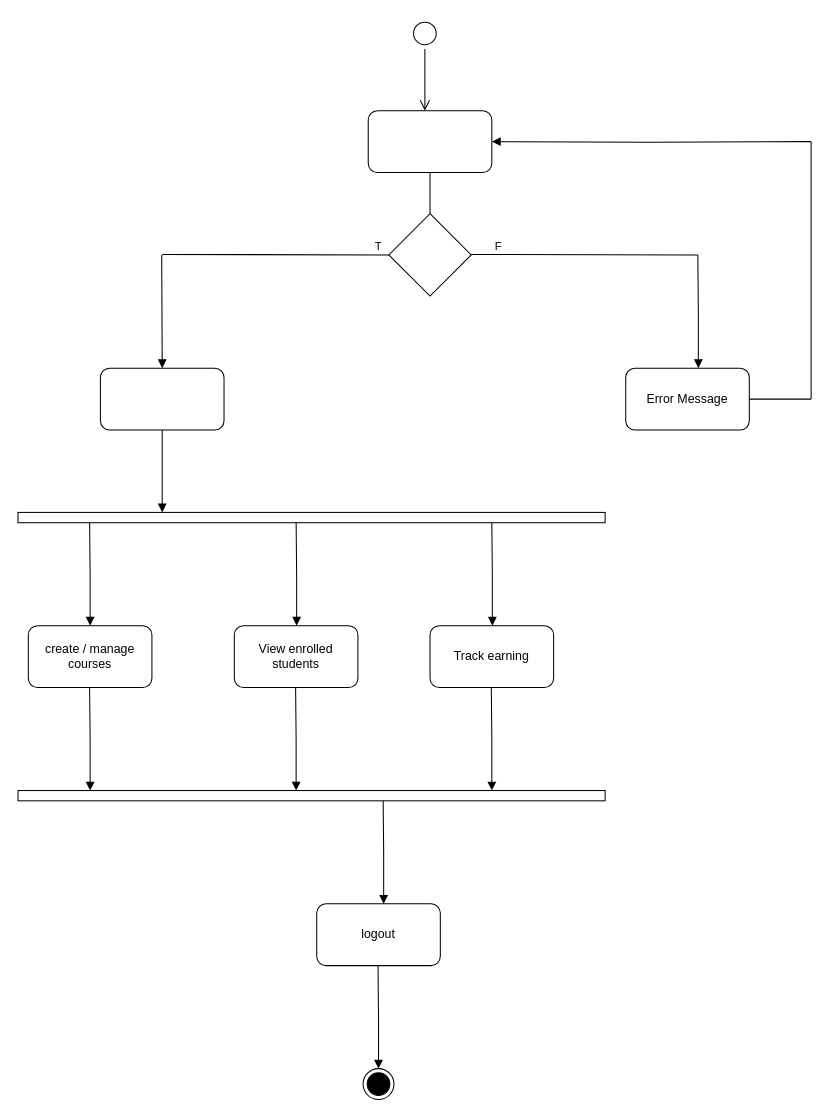
Image size: 837x1118. Some labels were removed from this diagram. Here are the shapes that lost their labels. From the top down, the centre of each, then its label:
the point at 429,141: Login
the point at 161,398: Dashboard
